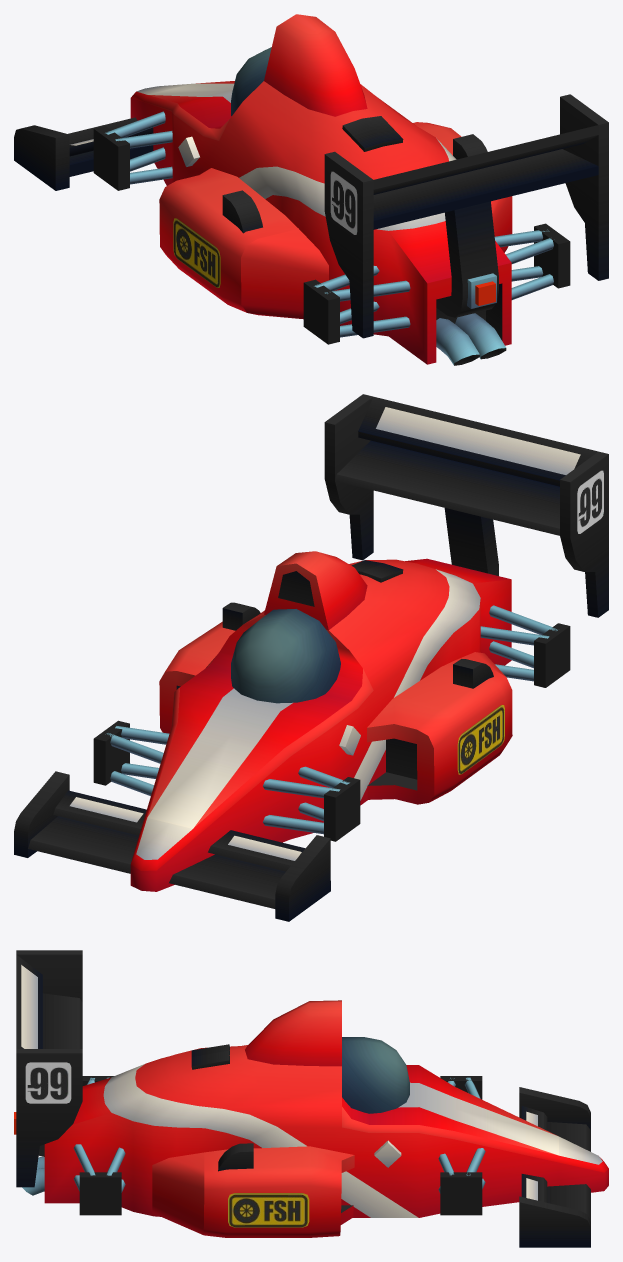
Rendered from formula.glb.
3 views of the same model, one above another, from view 1: azimuth 30°, elevation 25°; view 2: azimuth 150°, elevation 25°; view 3: azimuth 270°, elevation 25° (orthographic). The views are drawn at different scales.
Parts seen in each view (by area): view 1: model_5.003; view 2: model_5.003; view 3: model_5.003.
Boxes of the visible parts, <box> form: model_5.003: <box>14,14,608,365</box>; model_5.003: <box>14,394,608,921</box>; model_5.003: <box>14,950,608,1247</box>.
Size of the model in its own units: 135 by 99.31 by 284.
1 material, 1 textured.
